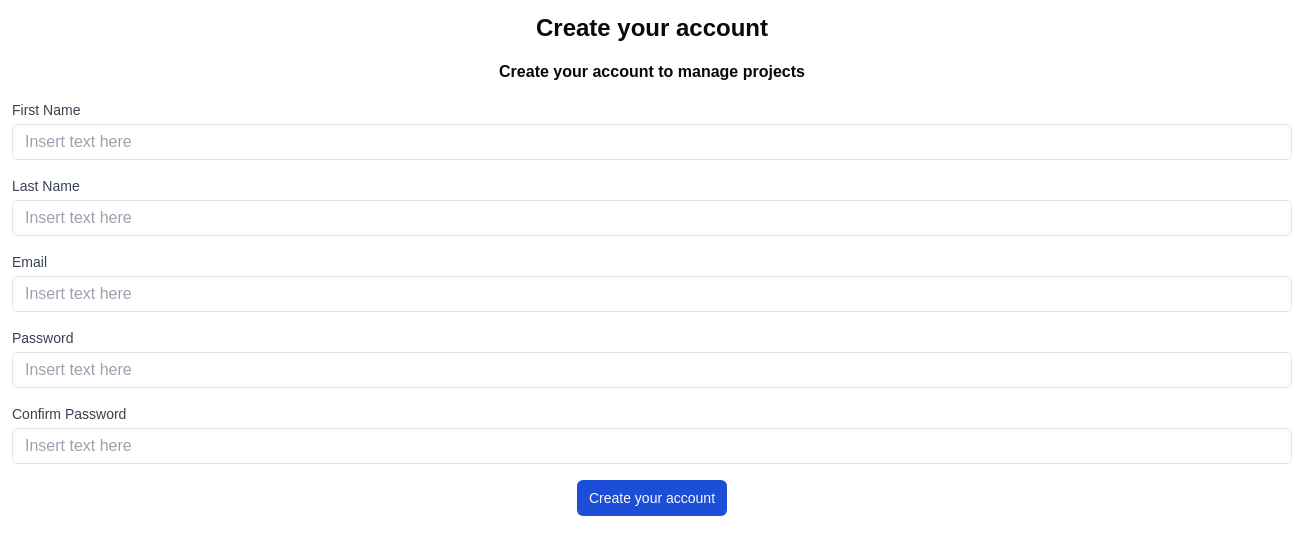
Test: Create User Account › show error when passwords do not match
Type "password123" into the password field with test id "password" at {"x": 652, "y": 370}, box top-left (25, 358), bottom-right (1279, 382)
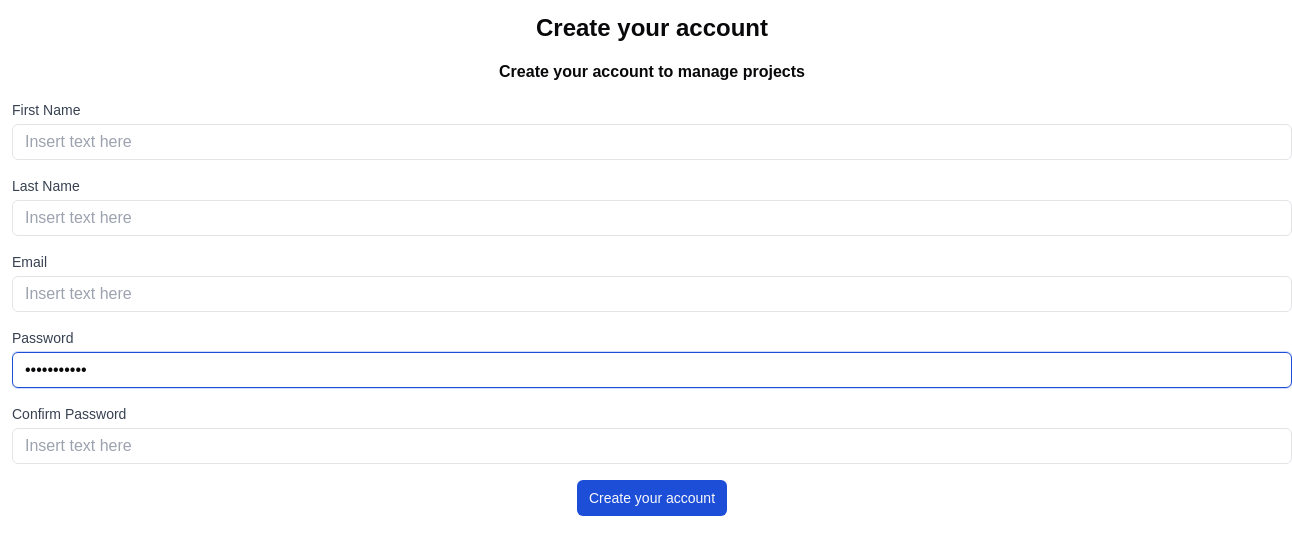
Type "password124" into the password field with test id "confirm-password" at {"x": 652, "y": 446}, box top-left (25, 434), bottom-right (1279, 458)
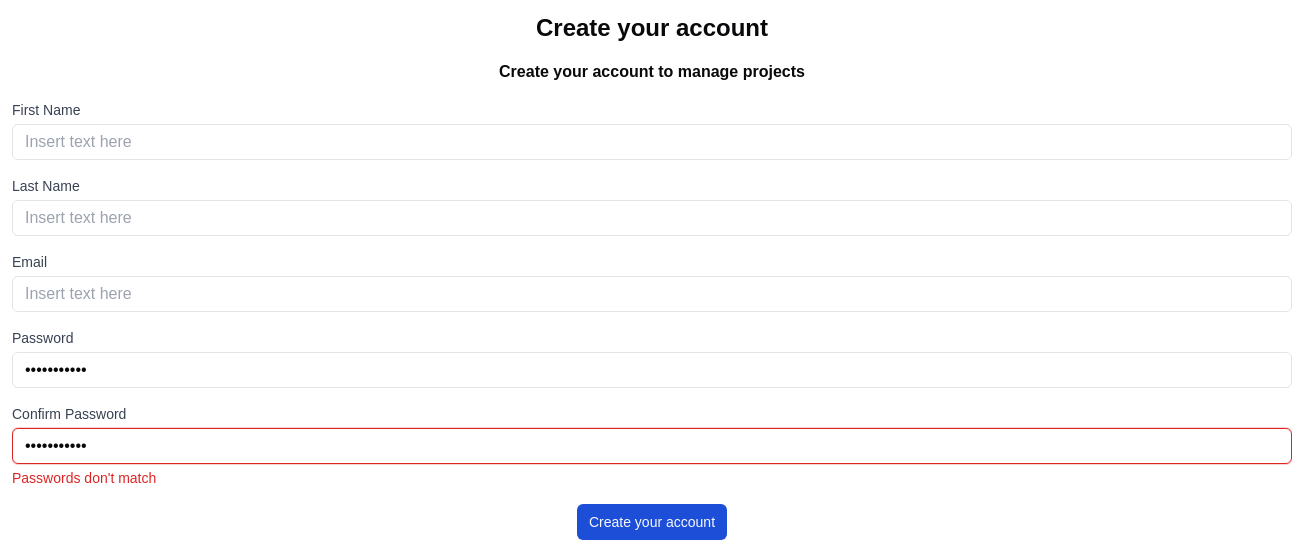
Expected: the text "Passwords don't match" is shown, top-left (12, 470), bottom-right (156, 486)
